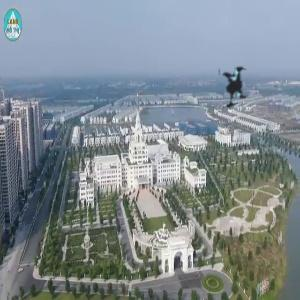drone: (193, 45, 278, 130)
